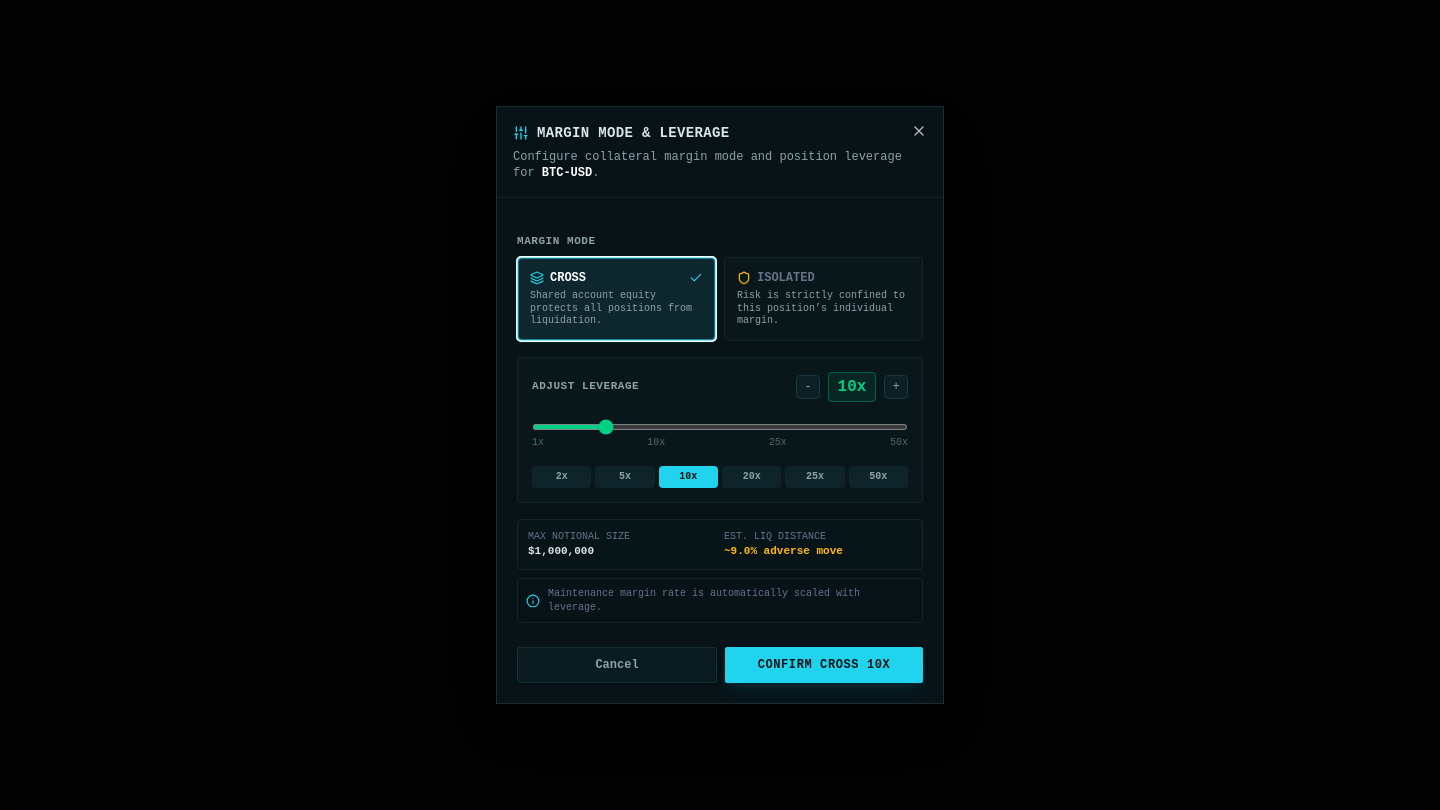
Test case: LeverageMarginModal › displays high leverage warning when leverage > 20x
// Select 50x
Click the button "50x". click: click(878, 477)
box: [849,466,908,488]
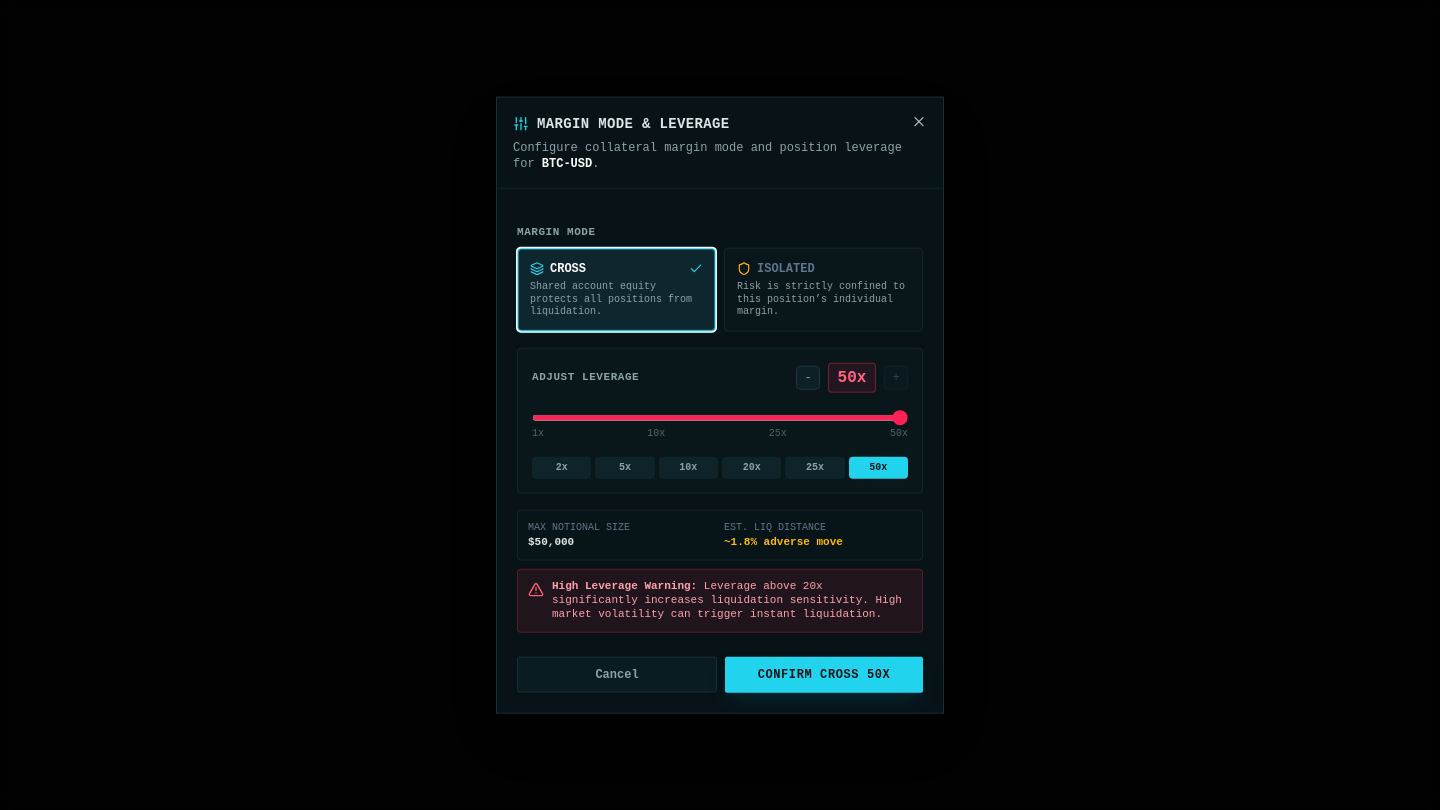
expect the text "High Leverage Warning:" is shown: met, box [552,580,697,592]
